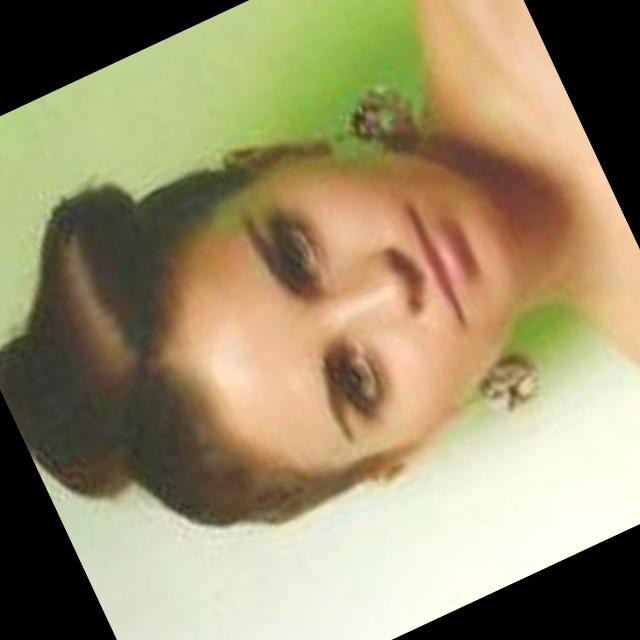bareface: (80, 70, 558, 518)
